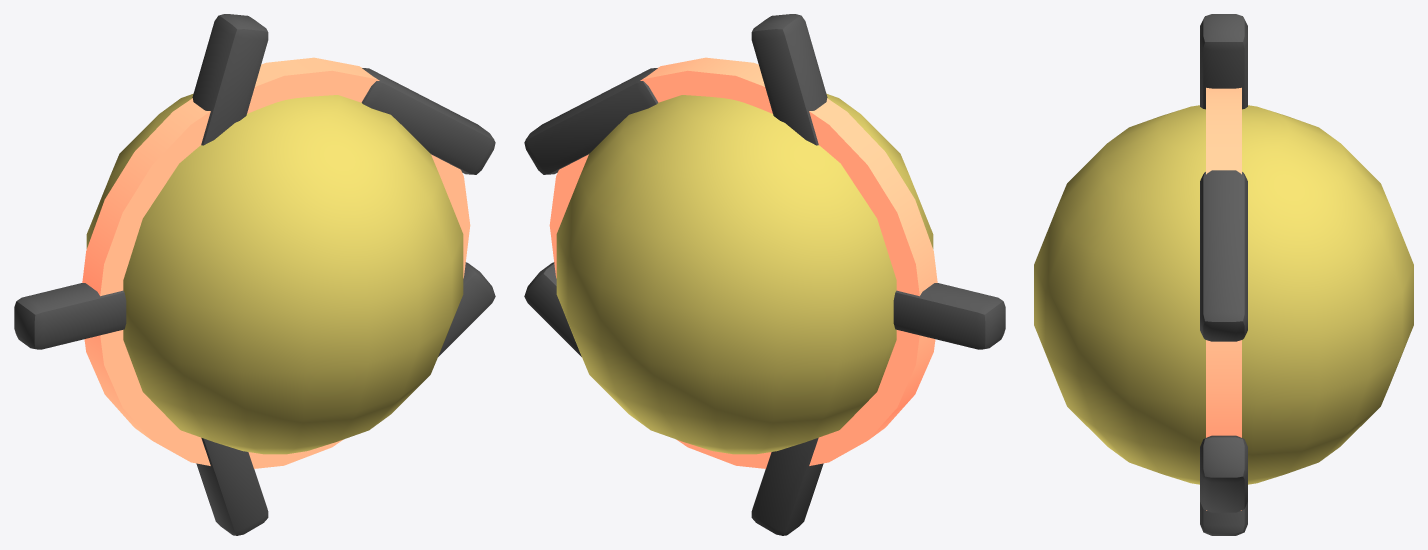
File: speedstar.glb
3 renders of one model, left to right at view 1: azimuth 30°, elevation 25°; view 2: azimuth 150°, elevation 25°; view 3: azimuth 270°, elevation 25°, orthographic.
Parts seen in each view (by area): view 1: Body; view 2: Body; view 3: Body.
Part boxes in pixels (x1,y1,x2,y2): Body: (14,14,495,535); Body: (524,14,1005,535); Body: (1034,14,1413,535).
Bounding box in the file's own units: 0.9017 × 0.9444 × 0.6303.
